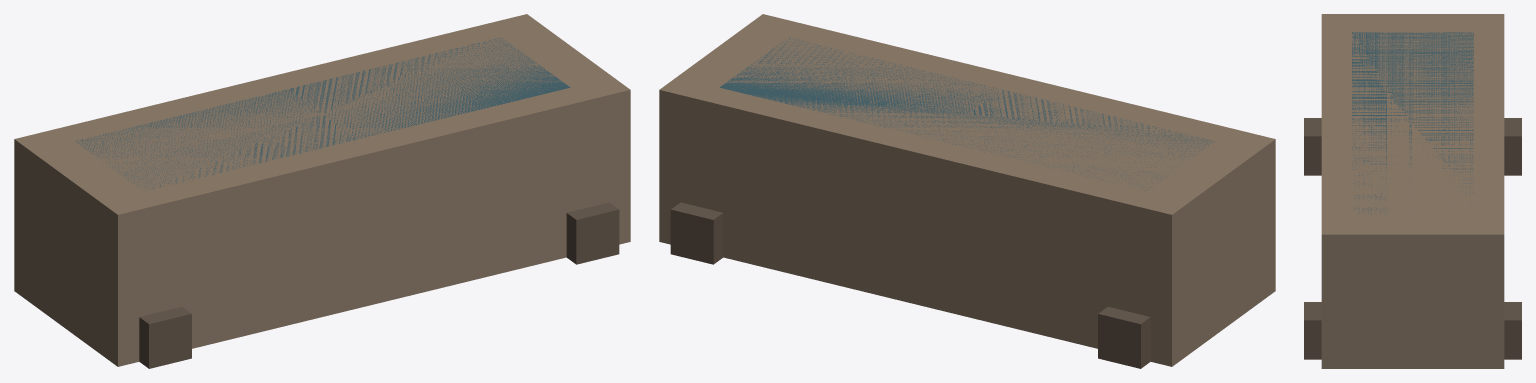
Rendered from hs_trough.glb.
3 views of the same model, side by side, from view 1: azimuth 30°, elevation 25°; view 2: azimuth 150°, elevation 25°; view 3: azimuth 270°, elevation 25° (orthographic). The views are drawn at different scales.
Parts seen in each view (by area): view 1: hs_trough; view 2: hs_trough; view 3: hs_trough.
Boxes of the visible parts, x1,y1,x2,y2 form: hs_trough: (14,14,630,368); hs_trough: (659,14,1275,368); hs_trough: (1304,14,1521,368).
Size of the model in its own units: 1.2 by 0.34 by 0.5.
